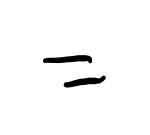eqv: (43, 55, 106, 88)
